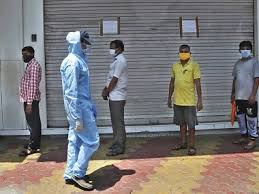mask: (73, 32, 91, 58), (107, 40, 125, 59), (238, 39, 254, 60), (20, 45, 37, 64), (177, 45, 193, 64)
